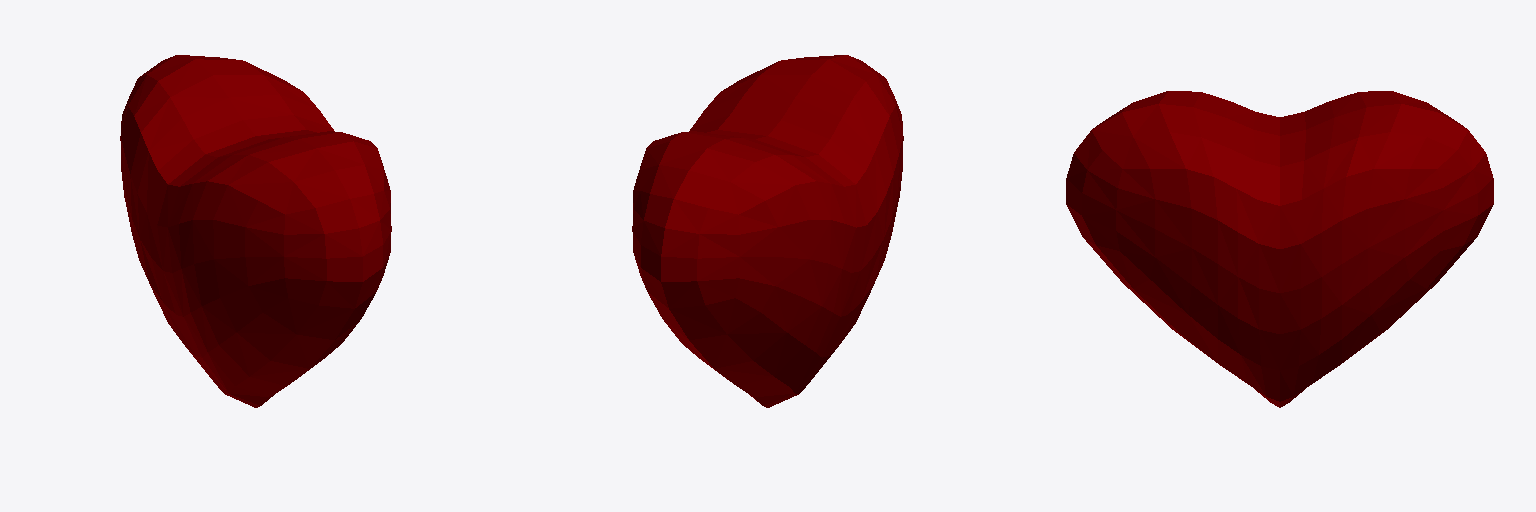
File: heart.obj
3 renders of one model, left to right at view 1: azimuth 30°, elevation 25°; view 2: azimuth 150°, elevation 25°; view 3: azimuth 270°, elevation 25°, orthographic.
Parts seen in each view (by area): view 1: heart_Heart_Cube.001; view 2: heart_Heart_Cube.001; view 3: heart_Heart_Cube.001.
Boxes of the visible parts, box(x1,y1,x2,y2) form: heart_Heart_Cube.001: box(120, 55, 391, 407); heart_Heart_Cube.001: box(632, 55, 903, 407); heart_Heart_Cube.001: box(1066, 91, 1493, 407).
Bounding box in the file's own units: 2.18 × 3.21 × 4.09.